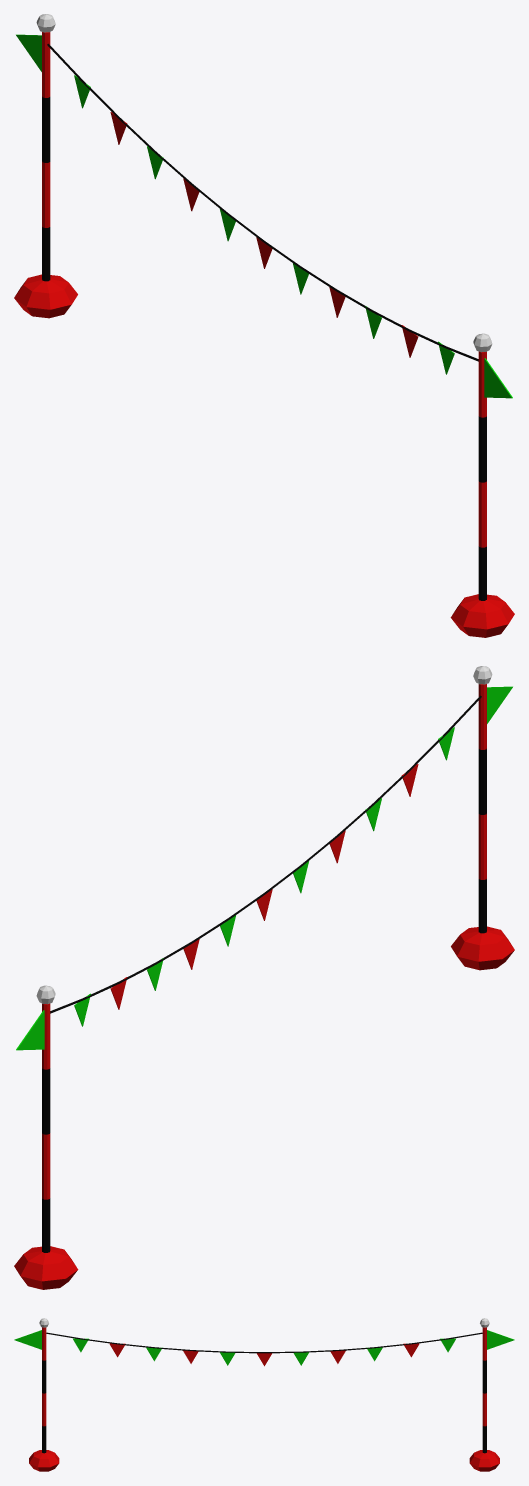
File: SM_TN_Checkpoint.fbx
3 renders of one model, top to bottom at view 1: azimuth 30°, elevation 25°; view 2: azimuth 150°, elevation 25°; view 3: azimuth 270°, elevation 25°, orthographic. The views are drawn at different scales.
Parts seen in each view (by area): view 1: SM_TN_Checkpoint; view 2: SM_TN_Checkpoint; view 3: SM_TN_Checkpoint.
Part boxes in pixels (bbox=[...]): SM_TN_Checkpoint: bbox=[14, 14, 514, 637]; SM_TN_Checkpoint: bbox=[14, 666, 514, 1289]; SM_TN_Checkpoint: bbox=[14, 1318, 514, 1471].
Size of what is drawn, in the model's own units: 96.08 by 530 by 1592.
